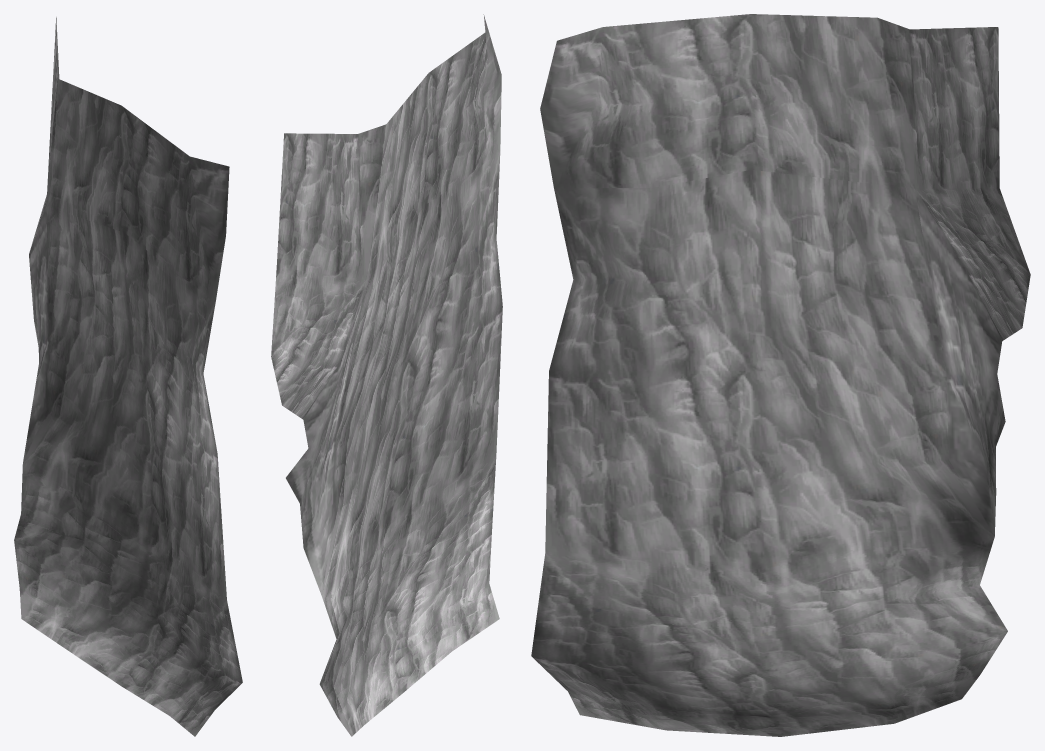
The model's file is SWORDLIGHT20_PS-AREA03_165.fbx.
The picture shows the model from 3 angles, left to right: view 1: azimuth 30°, elevation 25°; view 2: azimuth 150°, elevation 25°; view 3: azimuth 270°, elevation 25°; orthographic projection. The views are drawn at different scales.
Visible parts, largest first — view 1: SWORDLIGHT20_PS-AREA03_165; view 2: SWORDLIGHT20_PS-AREA03_165; view 3: SWORDLIGHT20_PS-AREA03_165.
Boxes of the visible parts, x1,y1,x2,y2 form: SWORDLIGHT20_PS-AREA03_165: (14, 17, 242, 736); SWORDLIGHT20_PS-AREA03_165: (271, 14, 502, 736); SWORDLIGHT20_PS-AREA03_165: (531, 14, 1030, 736).
Bounding box in the file's own units: 20328 × 205816 × 128580.
2 materials, 2 textured.
